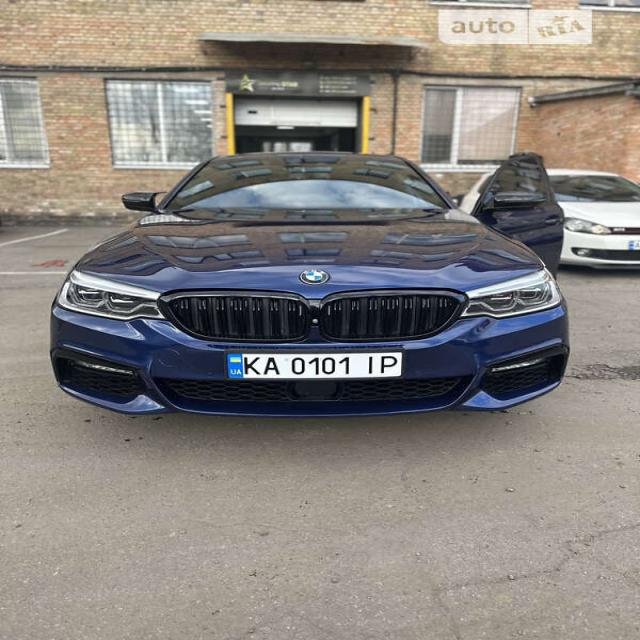plate: (225, 348, 408, 388)
